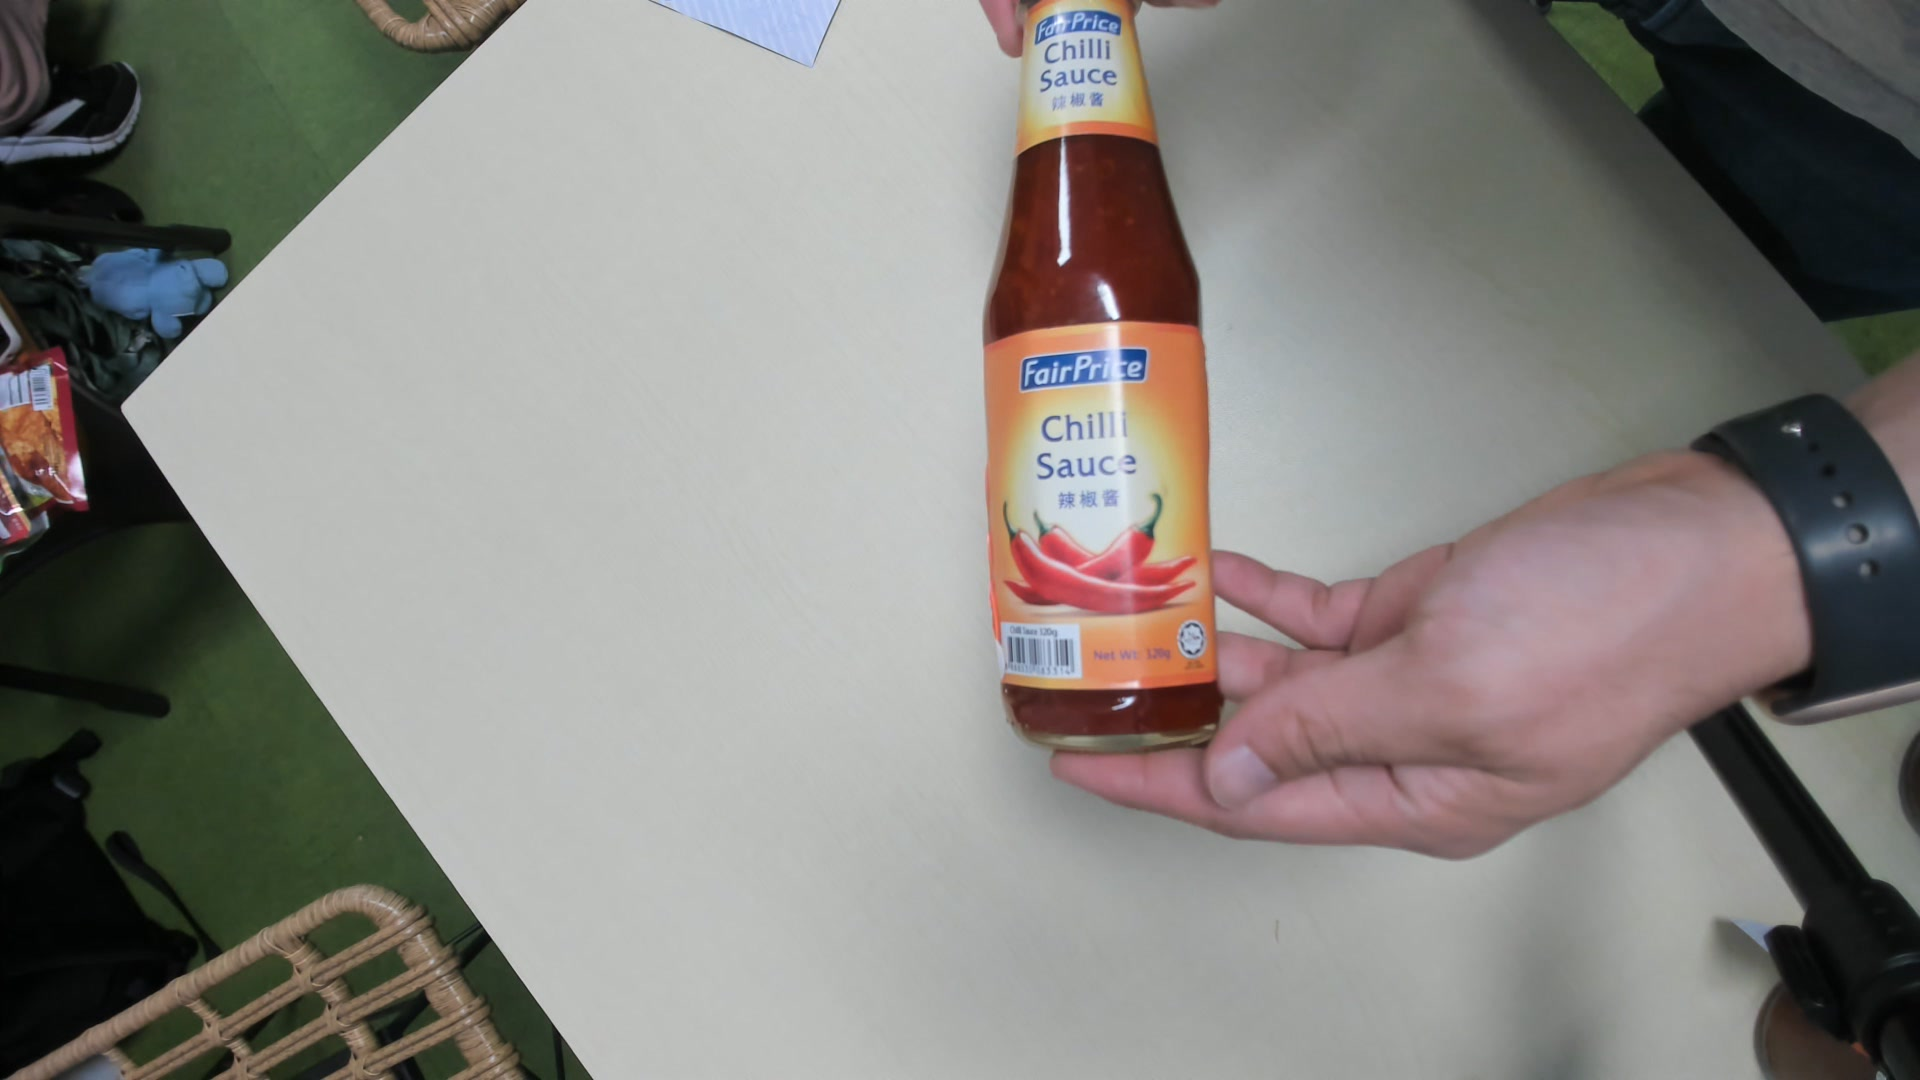KetchupChillSauce_300-399g_Halal_NonHealthy: (986, 1, 1229, 752)
